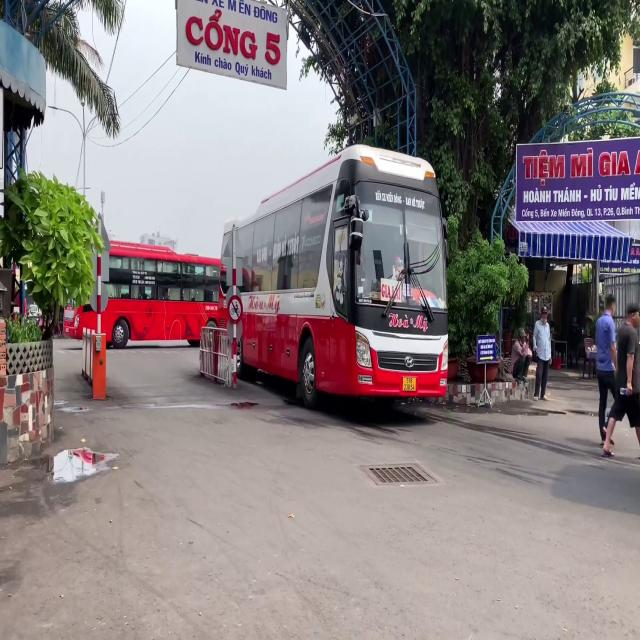bien_vang: (402, 374, 418, 394)
